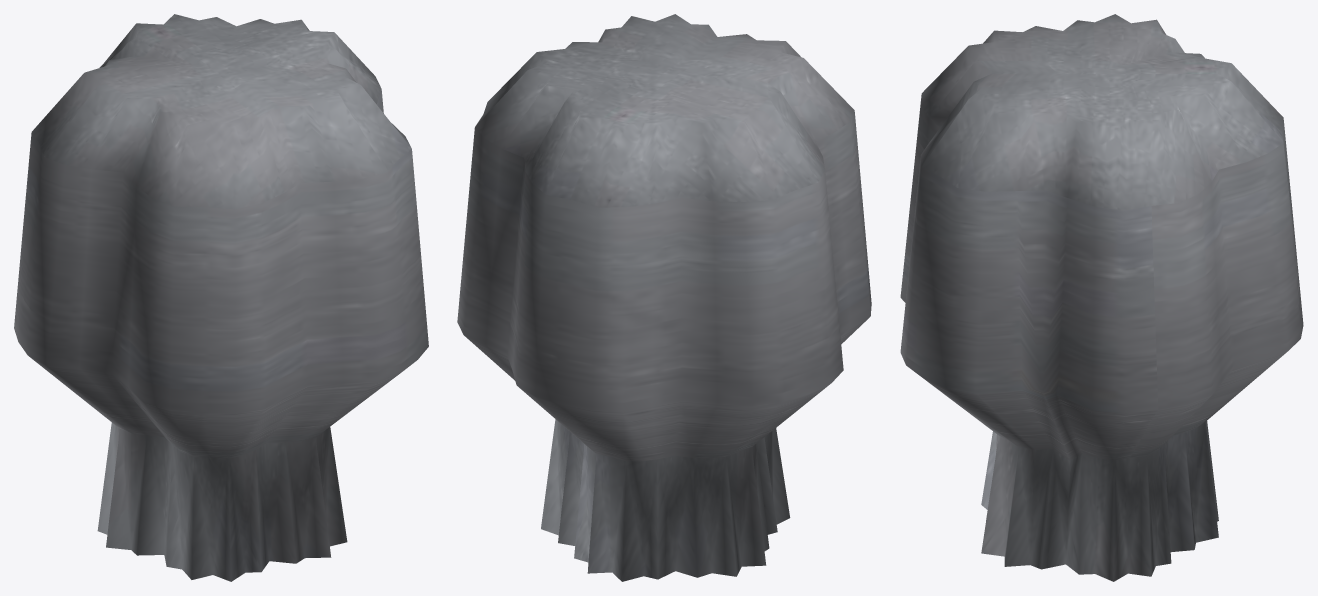
Rendered from Sink Knob.fbx.
3 views of the same model, side by side, from view 1: azimuth 30°, elevation 25°; view 2: azimuth 150°, elevation 25°; view 3: azimuth 270°, elevation 25° (orthographic).
Parts seen in each view (by area): view 1: pCylinder1; view 2: pCylinder1; view 3: pCylinder1.
Part boxes in pixels (x1,y1,x2,y2): pCylinder1: (14, 14, 428, 581); pCylinder1: (457, 14, 871, 581); pCylinder1: (900, 14, 1303, 581).
Size of the model in its own units: 9 by 11.03 by 8.73.
